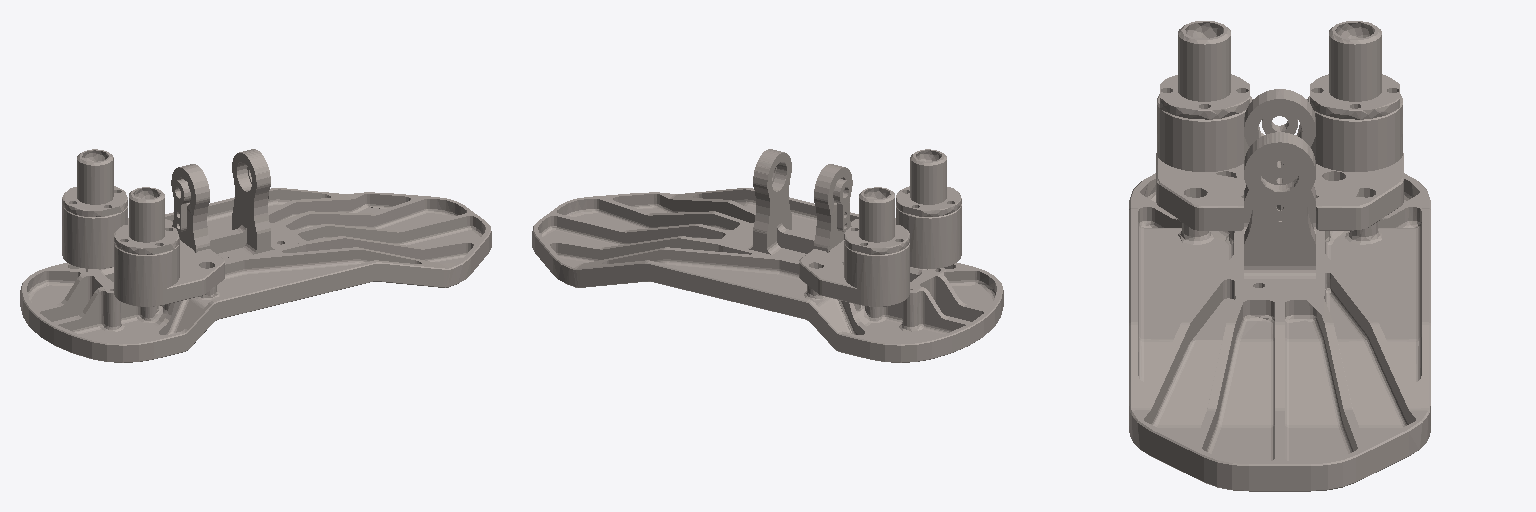
robot.urdf — biped_s3:
<?xml version="1.0" encoding="utf-8"?>
<!-- This URDF was automatically created by SolidWorks to URDF Exporter! Originally created by
[author] ([email redacted])
     Commit Version: 1.6.0-4-g7f85cfe  Build Version: 1.6.7995.38578
     For more information, please see http://wiki.ros.org/sw_urdf_exporter -->
<robot name="biped_s3">
  <!-- <mujoco>
    <compiler meshdir="../meshes/" balanceinertia="true" discardvisual="false"/>
  </mujoco> -->
  <link name="dummy_link">
  </link>
  <link name="base_link">
    <inertial>
      <origin xyz="0.0 0.0 0.12722577" rpy="0 0 0" />
      <mass value="29.0676195" />
      <inertia ixx="0.62588371" ixy="-0.00011772" ixz="0.01585114" iyy="0.56247677" iyz="0.00086199" izz="0.20014604" />
    </inertial>
    <visual>
      <origin xyz="0 0 0" rpy="0 0 0" />
      <geometry>
        <mesh filename="../meshes/base_link.obj" />
      </geometry>
      <material name="">
        <color rgba="0.43137 0.45098 0.43137 1" />
      </material>
    </visual>
<!--
    <visual>
      <origin xyz="0.0 0.0 0.15" rpy="0.0 0.0 0.0"/>
      <geometry>
        <box size="0.2 0.32 0.4"/>
      </geometry>
    </visual> -->

    <collision>
      <origin xyz="0.0 0.0 0.15" rpy="0.0 0.0 0.0"/>
      <geometry>
        <box size="0.2 0.32 0.4"/>
      </geometry>
    </collision>
  </link>

  <joint name="dummy_to_base_link" type="fixed">
      <parent link="dummy_link"/>
      <child link="base_link"/>
      <origin rpy="0 0 0" xyz="0 0 0"/>
  </joint>

  <link name="leg_l1_link">
    <inertial>
      <origin xyz="0.06614234 -0.00000119 -0.00862806" rpy="0 0 0" />
      <mass value="1.53800733" />
      <inertia ixx="0.00189451" ixy="-0.00000100" ixz="-0.00010566" iyy="0.00282649" iyz="-0.00000006" izz="0.00366404" />
    </inertial>
    <visual>
      <origin xyz="0 0 0" rpy="0 0 0" />
      <geometry>
        <mesh filename="../meshes/l_leg_roll.obj" />
      </geometry>
      <material name="">
        <color rgba="0.6902 0.65882 0.63922 1" />
      </material>
    </visual>
  </link>

  <joint name="leg_l1_joint" type="revolute">
    <origin xyz="-0.139 0.088087 -0.065549" rpy="0 0 0" />
    <parent link="base_link" />
    <child link="leg_l1_link" />
    <axis xyz="1 0 0" />
    <limit lower="-0.43" upper="0.43" effort="80" velocity="15" />
  </joint>


  <link name="leg_l2_link">
    <inertial>
      <origin xyz="0.00000000 0.04610400 -0.13256100" rpy="0 0 0" />
      <mass value="1.60096700" />
      <inertia ixx="0.00698359" ixy="0.00000237" ixz="-0.00000315" iyy="0.00460736" iyz="-0.00105143" izz="0.00482586" />
    </inertial>
    <visual>
      <origin xyz="0 0 0" rpy="0 0 0" />
      <geometry>
        <mesh filename="../meshes/l_leg_yaw.obj" />
      </geometry>
      <material name="">
        <color rgba="0.65098 0.61961 0.58824 1" />
      </material>
    </visual>
  </link>
  <joint name="leg_l2_joint" type="revolute">
    <origin xyz="0.1365 -0.0010866 -0.033901" rpy="0 0 0" />
    <parent link="leg_l1_link" />
    <child link="leg_l2_link" />
    <axis xyz="0 0 1" />
    <limit lower="-0.43" upper="0.43" effort="80" velocity="15" />
  </joint>



  <link name="leg_l3_link">
    <inertial>
      <origin xyz="-0.00644903 -0.09813560 -0.05357606" rpy="0 0 0" />
      <mass value="2.46657100" />
      <inertia ixx="0.02261778" ixy="-0.00007906" ixz="-0.00029350" iyy="0.02315672" iyz="-0.00182962" izz="0.00415881" />
    </inertial>
    <visual>
      <origin xyz="0 0 0" rpy="0 0 0" />
      <geometry>
        <mesh filename="../meshes/l_leg_pitch.obj" />
      </geometry>
      <material name="">
        <color rgba="0.52941 0.54902 0.54902 1" />
      </material>
    </visual>

    <!-- <visual>
      <origin xyz="0.0 -0.07 -0.1" rpy="0.0 0.0 0.0"/>
      <geometry>
        <cylinder radius="0.05" length="0.25"/>

      </geometry>
    </visual> -->

    <collision>
      <origin xyz="0.0 -0.07 -0.1" rpy="0.0 0.0 0.0"/>
      <geometry>
        <cylinder radius="0.05" length="0.25"/>
        <!-- <box size="0.1 0.1 0.18"/> -->
      </geometry>
    </collision>
  </link>

  <joint name="leg_l3_joint" type="revolute">
    <origin xyz="0 0.094 -0.09" rpy="0 0 0" />
    <parent link="leg_l2_link" />
    <child link="leg_l3_link" />
    <axis xyz="0 1 0" />
    <limit lower="-1.57" upper="1.57" effort="80" velocity="20" />
  </joint>


  <link name="leg_l4_link">
    <inertial>
      <origin xyz="0.00080045 -0.00004225 -0.12049699" rpy="0 0 0" />
      <mass value="1.62911554" />
      <inertia ixx="0.01343597" ixy="-0.00000234" ixz="0.00020391" iyy="0.01359234" iyz="0.00018311" izz="0.00092149" />
    </inertial>
    <visual>
      <origin xyz="0 0 0" rpy="0 0 0" />
      <geometry>
        <mesh filename="../meshes/l_knee.obj" />
      </geometry>
      <material name="">
        <color rgba="0.68627 0.65882 0.63922 1" />
      </material>
    </visual>

    <!-- <visual>
      <origin xyz="0.0 0.0 -0.17" rpy="0.0 0.0 0.0"/>
      <geometry>
        <cylinder radius="0.04" length="0.2"/>
      </geometry>
    </visual> -->

    <collision>
      <origin xyz="0.0 0.0 -0.17" rpy="0.0 0.0 0.0"/>
      <geometry>
        <cylinder radius="0.04" length="0.2"/>
        <!-- <box size="0.08 0.08 0.24"/> -->
      </geometry>
    </collision>

  </link>

  <joint name="leg_l4_joint" type="revolute">
    <origin xyz="0.004136 -0.06635 -0.24997" rpy="0 0 0" />
    <parent link="leg_l3_link" />
    <child link="leg_l4_link" />
    <axis xyz="0 1 0" />
    <limit lower="-0.26" upper="2.05" effort="80" velocity="25"/>
  </joint>


  <link name="leg_l5_link">
    <inertial>
      <origin xyz="0.00000000 -0.02099982 0" rpy="0 0 0" />
      <mass value="0.05444454" />
      <inertia ixx="0.00000411" ixy="0.00000000" ixz="0.00000000" iyy="0.00000411" iyz="0.00000000" izz="0.00000728" />
    </inertial>
    <visual>
      <origin xyz="0 0 0" rpy="0 0 0" />
      <geometry>
        <mesh filename="../meshes/l_foot_pitch.obj" />
      </geometry>
      <material name="">
        <color rgba="0.6902 0.65882 0.63922 1" />
      </material>
    </visual>
  </link>

  <joint name="leg_l5_joint" type="revolute">
    <origin xyz="0 -0.0022 -0.346" rpy="0 0 0" />
    <parent link="leg_l4_link" />
    <child link="leg_l5_link" />
    <axis xyz="0 1 0" />
    <limit lower="-0.87" upper="0.57" effort="30" velocity="60" />
  </joint>



  <link name="leg_l6_link">
    <inertial>
      <origin xyz="-0.03594832 0.00000978 -0.02713029" rpy="0 0 0" />
      <mass value="0.46707519" />
      <inertia ixx="0.00040711" ixy="0.00000016" ixz="-0.00023147" iyy="0.00127525" iyz="-0.00000006" izz="0.00135360" />
    </inertial>
    <visual>
      <origin xyz="0 0 0" rpy="0 0 0" />
      <geometry>
        <mesh filename="../meshes/l_foot_roll.obj" />
      </geometry>
      <material name="">
        <color rgba="0.6902 0.65882 0.63922 1" />
      </material>
    </visual>

    <collision>
      <origin rpy="0 0 0" xyz="0 0 0" />
      <geometry>
        <mesh filename="../meshes/l_foot_roll.obj" />
      </geometry>
    </collision>
    <!-- <visual>
      <origin rpy="0 0 0" xyz="-0.09 0.05 -0.0465" />
      <geometry>
        <sphere radius="0.005" />
      </geometry>
    </visual>
    <collision>
      <origin rpy="0 0 0" xyz="-0.09 0.05 -0.0465" />
      <geometry>
        <sphere radius="0.005" />
      </geometry>
    </collision>
    <visual>
      <origin rpy="0 0 0" xyz="-0.09 -0.05 -0.0465" />
      <geometry>
        <sphere radius="0.005" />
      </geometry>
    </visual>
    <collision>
      <origin rpy="0 0 0" xyz="-0.09 -0.05 -0.0465" />
      <geometry>
        <sphere radius="0.005" />
      </geometry>
    </collision>

    <visual>
      <origin rpy="0 0 0" xyz="0.15 0.05 -0.0465" />
      <geometry>
        <sphere radius="0.005" />
      </geometry>
    </visual>
    <collision>
      <origin rpy="0 0 0" xyz="0.15 0.05 -0.0465" />
      <geometry>
        <sphere radius="0.005" />
      </geometry>
    </collision>
    <visual>
      <origin rpy="0 0 0" xyz="0.15 -0.05 -0.0465" />
      <geometry>
        <sphere radius="0.005" />
      </geometry>
    </visual>
    <collision>
      <origin rpy="0 0 0" xyz="0.15 -0.05 -0.0465" />
      <geometry>
        <sphere radius="0.005" />
      </geometry>
    </collision> -->
  </link>

  <!-- <frame link="l_foot_roll" name="l_foot_sole" xyz="0 0.0 -0.0465" />
  <frame link="l_foot_roll" name="l_foot_toe" xyz="0.15 0.0 -0.0465" />
  <frame link="l_foot_roll" name="l_foot_heel" xyz="-0.09 0.0 -0.0465" /> -->

  <joint name="leg_l6_joint" type="revolute">
    <origin xyz="0 0 0" rpy="0 0 0" />
    <parent link="leg_l5_link" />
    <child link="leg_l6_link" />
    <axis xyz="1 0 0" />
    <limit lower="-0.44" upper="0.44" effort="30" velocity="60" />
  </joint>

  <!-- <link
    name="ll_foot_toe">
    <collision>
        <origin rpy="0 0 0" xyz="0 0 0"/>
        <geometry>
            <sphere radius="0.005"/>
        </geometry>
    </collision>
  </link>
  <joint
    name="ll_foot_toe_joint"
    type="fixed">
    <origin
      xyz="0.15 0.05 -0.0465"
      rpy="0 0 0" />
    <parent
      link="leg_l6_link" />
    <child
      link="ll_foot_toe" />
  </joint>
  <link
    name="ll_foot_heel">
    <collision>
        <origin rpy="0 0 0" xyz="0 0 0"/>
        <geometry>
            <sphere radius="0.005"/>
        </geometry>
    </collision>
  </link>
  <joint
    name="ll_foot_heel_joint"
    type="fixed">
    <origin
      xyz="-0.09 0.05 -0.0465"
      rpy="0 0 0" />
    <parent
      link="leg_l6_link" />
    <child
      link="ll_foot_heel" />
  </joint>

  <link
    name="lr_foot_toe">
    <collision>
        <origin rpy="0 0 0" xyz="0 0 0"/>
        <geometry>
            <sphere radius="0.005"/>
        </geometry>
    </collision>
  </link>
  <joint
    name="lr_foot_toe_joint"
    type="fixed">
    <origin
      xyz="0.15 -0.05 -0.0465"
      rpy="0 0 0" />
    <parent
      link="leg_l6_link" />
    <child
      link="lr_foot_toe" />
  </joint>
  <link
    name="lr_foot_heel">
    <collision>
        <origin rpy="0 0 0" xyz="0 0 0"/>
        <geometry>
            <sphere radius="0.005"/>
        </geometry>
    </collision>
  </link>
  <joint
    name="lr_foot_heel_joint"
    type="fixed">
    <origin
      xyz="-0.09 -0.05 -0.0465"
      rpy="0 0 0" />
    <parent
      link="leg_l6_link" />
    <child
      link="lr_foot_heel" />
  </joint>
  <link
    name="l_foot_toe">
    <collision>
        <origin rpy="0 0 0" xyz="0 0 0"/>
        <geometry>
            <sphere radius="0.005"/>
        </geometry>
    </collision>
  </link>
  <joint
    name="l_foot_toe_joint"
    type="fixed">
    <origin
      xyz="0.15 0.0 -0.0465"
      rpy="0 0 0" />
    <parent
      link="leg_l6_link" />
    <child
      link="l_foot_toe" />
  </joint>
  <link
    name="l_foot_heel">
    <collision>
        <origin rpy="0 0 0" xyz="0 0 0"/>
        <geometry>
            <sphere radius="0.005"/>
        </geometry>
    </collision>
  </link>
  <joint
    name="l_foot_heel_joint"
    type="fixed">
    <origin
      xyz="-0.09 0.0 -0.0465"
      rpy="0 0 0" />
    <parent
      link="leg_l6_link" />
    <child
      link="l_foot_heel" />
  </joint> -->


  <link
  name="leg_r1_link">
    <inertial>
      <origin xyz="0.06614233 0.00000119 -0.00862806" rpy="0 0 0" />
      <mass value="1.53800714" />
      <inertia ixx="0.00189451" ixy="0.00000100" ixz="-0.00010566" iyy="0.00282648" iyz="0.00000006" izz="0.00366404" />
    </inertial>
    <visual>
      <origin xyz="0 0 0" rpy="0 0 0" />
      <geometry>
        <mesh filename="../meshes/r_leg_roll.obj" />
      </geometry>
      <material name="">
        <color rgba="0.6902 0.65882 0.63922 1" />
      </material>
    </visual>

  </link>
  <joint name="leg_r1_joint" type="revolute">
    <origin xyz="-0.139 -0.088087 -0.065549" rpy="0 0 0" />
    <parent link="base_link" />
    <child link="leg_r1_link" />
    <axis xyz="1 0 0" />
    <limit lower="-0.43" upper="0.43" effort="80" velocity="15" />
  </joint>

  <link name="leg_r2_link">
    <inertial>
      <origin xyz="0.00004661 -0.04610359 -0.13257364" rpy="0 0 0" />
      <mass value="1.60096695" />
      <inertia ixx="0.00520439" ixy="-0.00000302" ixz="-0.00000372" iyy="0.00397740" iyz="0.00063198" izz="0.00391648" />
    </inertial>
    <visual>
      <origin xyz="0 0 0" rpy="0 0 0" />
      <geometry>
        <mesh filename="../meshes/r_leg_yaw.obj" />
      </geometry>
      <material name="">
        <color rgba="0.650980392156863 0.619607843137255 0.588235294117647 1" />
      </material>
    </visual>
  </link>
  <joint name="leg_r2_joint" type="revolute">
    <origin xyz="0.1365 0.0010866 -0.033901" rpy="0 0 0" />
    <parent link="leg_r1_link" />
    <child link="leg_r2_link" />
    <axis xyz="0 0 1" />
    <limit lower="-0.43" upper="0.43" effort="80" velocity="15"/>
  </joint>

  <link name="leg_r3_link">
    <inertial>
      <origin xyz="-0.00644903 0.09813560 -0.05357606" rpy="0 0 0" />
      <mass value="2.46657141" />
      <inertia ixx="0.02254838" ixy="0.00023457" ixz="0.00013808" iyy="0.02319666" iyz="0.00259984" izz="0.00432904" />
    </inertial>

    <visual>
      <origin xyz="0 0 0" rpy="0 0 0" />
      <geometry>
        <mesh filename="../meshes/r_leg_pitch.obj" />
      </geometry>
      <material name="">
        <color rgba="0.529411764705882 0.549019607843137 0.549019607843137 1" />
      </material>
    </visual>

    <!-- <visual>
      <origin xyz="0.0 0.07 -0.1" rpy="0.0 0.0 0.0"/>
      <geometry>
        <cylinder radius="0.05" length="0.25"/>
      </geometry>
    </visual> -->

    <collision>
      <origin xyz="0.0 0.07 -0.1" rpy="0.0 0.0 0.0"/>
      <geometry>
        <cylinder radius="0.05" length="0.25"/>
        <!-- <box size="0.1 0.1 0.18"/> -->
      </geometry>
    </collision>
  </link>

  <joint name="leg_r3_joint" type="revolute">
    <origin xyz="0 -0.094 -0.09" rpy="0 0 0" />
    <parent link="leg_r2_link" />
    <child link="leg_r3_link" />
    <axis xyz="0 1 0" />
    <limit lower="-1.57" upper="1.57" effort="80" velocity="20"/>
  </joint>

  <link name="leg_r4_link">
    <inertial>
      <origin xyz="0.00080045 0.00004225 -0.12049699" rpy="0 0 0" />
      <mass value="1.62911540" />
      <inertia ixx="0.01343597" ixy="0.00000234" ixz="0.00020391" iyy="0.01359234" iyz="-0.00018311" izz="0.00092149" />
    </inertial>
    <visual>
      <origin xyz="0 0 0" rpy="0 0 0" />
      <geometry>
        <mesh filename="../meshes/r_knee.obj" />
      </geometry>
      <material name="">
        <color rgba="0.686274509803922 0.658823529411765 0.63921568627451 1" />
      </material>
    </visual>

    <!-- <visual>
      <origin xyz="0.0 0.0 -0.17" rpy="0.0 0.0 0.0"/>
      <geometry>
        <cylinder radius="0.04" length="0.2"/>
      </geometry>
    </visual> -->

    <collision>
      <origin xyz="0.0 0.0 -0.17" rpy="0.0 0.0 0.0"/>
      <geometry>
        <cylinder radius="0.04" length="0.2"/>
        <!-- <box size="0.08 0.08 0.24"/> -->
      </geometry>
    </collision>

  </link>

  <joint name="leg_r4_joint" type="revolute">
    <origin xyz="0.004136 0.06635 -0.24997" rpy="0 0 0" />
    <parent link="leg_r3_link" />
    <child link="leg_r4_link" />
    <axis xyz="0 1 0" />
    <limit lower="-0.26" upper="2.05" effort="80" velocity="25" />
  </joint>

  <link name="leg_r5_link">
    <inertial>
      <origin xyz="0 0.02100018 0" rpy="0 0 0" />
      <mass value="0.05444454" />
      <inertia ixx="0.00000411" ixy="0" ixz="0" iyy="0.00000411" iyz="0" izz="0.00000728" />
    </inertial>
    <visual>
      <origin xyz="0 0 0" rpy="0 0 0" />
      <geometry>
        <mesh filename="../meshes/r_foot_pitch.obj" />
      </geometry>
      <material name="">
        <color rgba="0.690196078431373 0.658823529411765 0.63921568627451 1" />
      </material>
    </visual>

  </link>
  <joint name="leg_r5_joint" type="revolute">
    <origin xyz="0 0.0022 -0.346" rpy="0 0 0" />
    <parent link="leg_r4_link" />
    <child link="leg_r5_link" />
    <axis xyz="0 1 0" />
    <limit lower="-0.87" upper="0.57" effort="30" velocity="60" />


  </joint>

  <link name="leg_r6_link">
    <inertial>
      <origin xyz="-0.03594837 -0.00000972 -0.02713025" rpy="0 0 0" />
      <mass value="0.46707428" />
      <inertia ixx="0.00040710" ixy="-0.00000016" ixz="-0.00023147" iyy="0.00127525" iyz="0.00000006" izz="0.00135359" />
    </inertial>
    <visual>
      <origin xyz="0 0 0" rpy="0 0 0" />
      <geometry>
        <mesh filename="../meshes/r_foot_roll.obj" />
      </geometry>
      <material name="">
        <color rgba="0.690196078431373 0.658823529411765 0.63921568627451 1" />
      </material>
    </visual>

    <collision>
      <origin rpy="0 0 0" xyz="0 0 0" />
      <geometry>
        <mesh filename="../meshes/r_foot_roll.obj" />
      </geometry>
    </collision>

    <!-- <visual>
      <origin rpy="0 0 0" xyz="-0.09 0.05 -0.0465" />
      <geometry>
        <sphere radius="0.005" />
      </geometry>
    </visual>
    <collision>
      <origin rpy="0 0 0" xyz="-0.09 0.05 -0.0465" />
      <geometry>
        <sphere radius="0.005" />
      </geometry>
    </collision>
    <visual>
      <origin rpy="0 0 0" xyz="-0.09 -0.05 -0.0465" />
      <geometry>
        <sphere radius="0.005" />
      </geometry>
    </visual>
    <collision>
      <origin rpy="0 0 0" xyz="-0.09 -0.05 -0.0465" />
      <geometry>
        <sphere radius="0.005" />
      </geometry>
    </collision>

    <visual>
      <origin rpy="0 0 0" xyz="0.15 0.05 -0.0465" />
      <geometry>
        <sphere radius="0.005" />
      </geometry>
    </visual>
    <collision>
      <origin rpy="0 0 0" xyz="0.15 0.05 -0.0465" />
      <geometry>
        <sphere radius="0.005" />
      </geometry>
    </collision>
    <visual>
      <origin rpy="0 0 0" xyz="0.15 -0.05 -0.0465" />
      <geometry>
        <sphere radius="0.005" />
      </geometry>
    </visual>
    <collision>
      <origin rpy="0 0 0" xyz="0.15 -0.05 -0.0465" />
      <geometry>
        <sphere radius="0.005" />
      </geometry>
    </collision> -->

  </link>
  <!-- <frame link="r_foot_roll" name="r_foot_sole" xyz="0 -0.0 -0.0465" />
  <frame link="r_foot_roll" name="r_foot_toe" xyz="0.075 -0.0 -0.0465" />
  <frame link="r_foot_roll" name="r_foot_heel" xyz="-0.075 -0.0 -0.0465" /> -->
  <joint name="leg_r6_joint" type="revolute">
    <origin xyz="0 0 0" rpy="0 0 0" />
    <parent link="leg_r5_link" />
    <child link="leg_r6_link" />
    <axis xyz="1 0 0" />
    <limit lower="-0.44" upper="0.44" effort="30" velocity="60" />
  </joint>

   <!-- <link
    name="rl_foot_toe">
    <collision>
        <origin rpy="0 0 0" xyz="0 0 0"/>
        <geometry>
            <sphere radius="0.005"/>
        </geometry>
    </collision>
  </link>
  <joint
    name="rl_foot_toe_joint"
    type="fixed">
    <origin
      xyz="0.15 0.05 -0.0465"
      rpy="0 0 0" />
    <parent
      link="leg_r6_link" />
    <child
      link="rl_foot_toe" />
  </joint>
  <link
    name="rl_foot_heel">
    <collision>
        <origin rpy="0 0 0" xyz="0 0 0"/>
        <geometry>
            <sphere radius="0.005"/>
        </geometry>
    </collision>
  </link>
  <joint
    name="rl_foot_heel_joint"
    type="fixed">
    <origin
      xyz="-0.09 0.05 -0.0465"
      rpy="0 0 0" />
    <parent
      link="leg_r6_link" />
    <child
      link="rl_foot_heel" />
  </joint>

  <link
    name="rr_foot_toe">
    <collision>
        <origin rpy="0 0 0" xyz="0 0 0"/>
        <geometry>
            <sphere radius="0.005"/>
        </geometry>
    </collision>
  </link>
  <joint
    name="rr_foot_toe_joint"
    type="fixed">
    <origin
      xyz="0.15 -0.05 -0.0465"
      rpy="0 0 0" />
    <parent
      link="leg_r6_link" />
    <child
      link="rr_foot_toe" />
  </joint>
  <link
    name="rr_foot_heel">
    <collision>
        <origin rpy="0 0 0" xyz="0 0 0"/>
        <geometry>
            <sphere radius="0.005"/>
        </geometry>
    </collision>
  </link>
  <joint
    name="rr_foot_heel_joint"
    type="fixed">
    <origin
      xyz="-0.09 -0.05 -0.0465"
      rpy="0 0 0" />
    <parent
      link="leg_r6_link" />
    <child
      link="rr_foot_heel" />
  </joint>
  <link
    name="r_foot_toe">
    <collision>
        <origin rpy="0 0 0" xyz="0 0 0"/>
        <geometry>
            <sphere radius="0.005"/>
        </geometry>
    </collision>
  </link>
  <joint
    name="r_foot_toe_joint"
    type="fixed">
    <origin
      xyz="0.15 -0.0 -0.0465"
      rpy="0 0 0" />
    <parent
      link="leg_r6_link" />
    <child
      link="r_foot_toe" />
  </joint>
  <link
    name="r_foot_heel">
    <collision>
        <origin rpy="0 0 0" xyz="0 0 0"/>
        <geometry>
            <sphere radius="0.005"/>
        </geometry>
    </collision>
  </link>
  <joint
    name="r_foot_heel_joint"
    type="fixed">
    <origin
      xyz="-0.09 -0.0 -0.0465"
      rpy="0 0 0" />
    <parent
      link="leg_r6_link" />
    <child
      link="r_foot_heel" />
  </joint> -->

</robot>

--- Facts derived from the render (not from the file) ---
The picture shows the robot from 3 angles, left to right: view 1: azimuth 30°, elevation 25°; view 2: azimuth 150°, elevation 25°; view 3: azimuth 270°, elevation 25°; orthographic projection.
Robot: biped_s3 — 14 links, 13 joints (12 revolute, 1 fixed); root link dummy_link; default pose: every joint at zero.
Visible links, largest first — view 1: leg_r6_link; view 2: leg_r6_link; view 3: leg_r6_link.
Link boxes in pixels (x1,y1,x2,y2): leg_r6_link: (20, 149, 491, 362); leg_r6_link: (532, 149, 1003, 362); leg_r6_link: (1129, 21, 1430, 491).
Bounding box of the posed robot: 0.244 × 0.1 × 0.0765 m (x, y, z).
1 mesh visuals loaded from 13 distinct referenced files (1 OBJ); not drawn: 12 (reference not matched to a file when rendering).